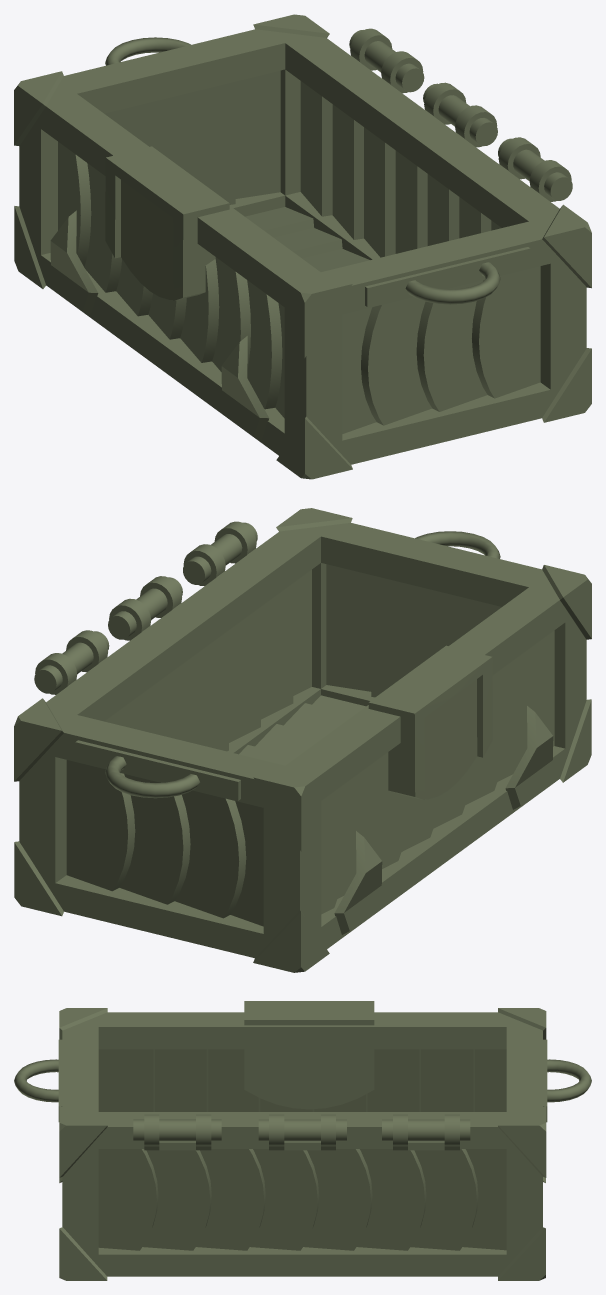
File: Armored_chest_part_1.FBX
3 renders of one model, top to bottom at view 1: azimuth 30°, elevation 25°; view 2: azimuth 150°, elevation 25°; view 3: azimuth 270°, elevation 25°, orthographic. The views are drawn at different scales.
Parts seen in each view (by area): view 1: Armored_chest_part_1; view 2: Armored_chest_part_1; view 3: Armored_chest_part_1.
Part boxes in pixels (x1,y1,x2,y2): Armored_chest_part_1: (14,14,591,479); Armored_chest_part_1: (14,508,591,972); Armored_chest_part_1: (14,1001,591,1280).
Size of the model in its own units: 119 by 214 by 69.63.
